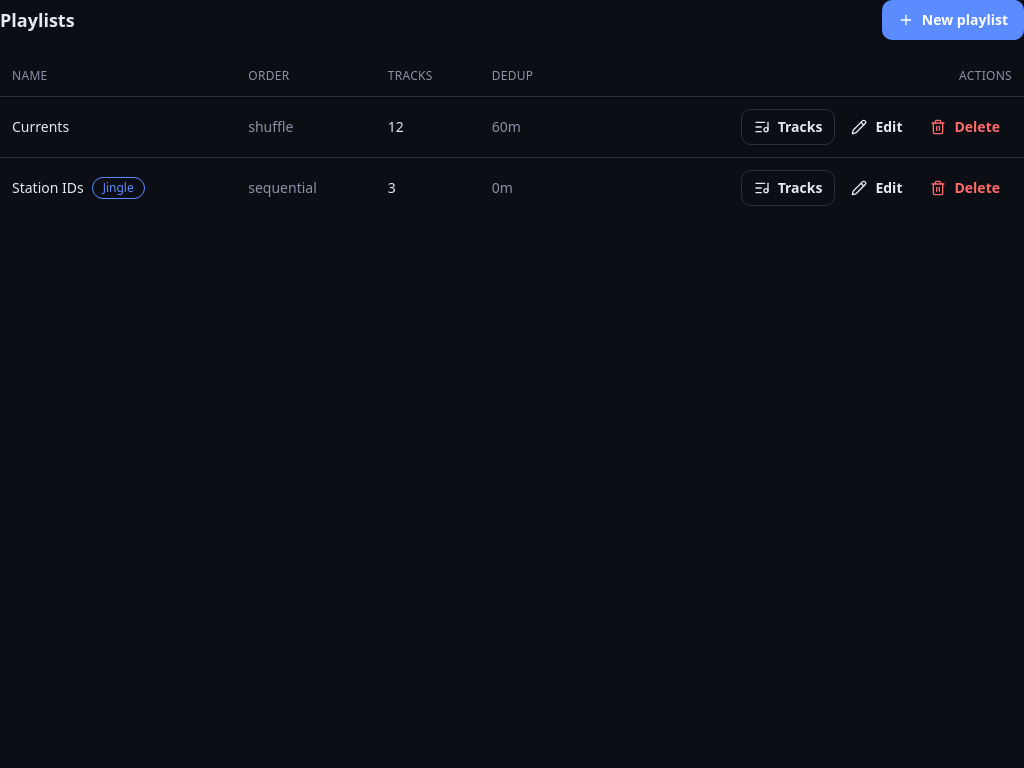
Test: PlaylistsPanel › surfaces the 409 that names the clocks blocking a delete
Click the button "Delete" in the row of "Currents" at (965, 126), box [918,108,1012,144]
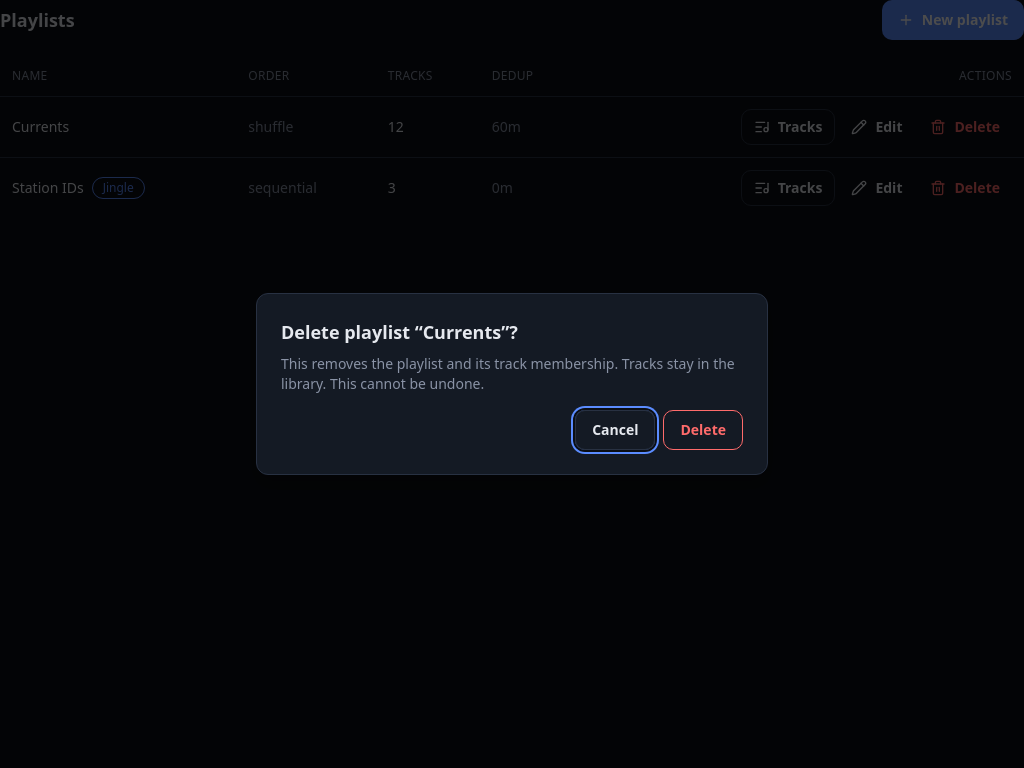
Click the button "Delete" at (703, 430), box [664,410,743,450]
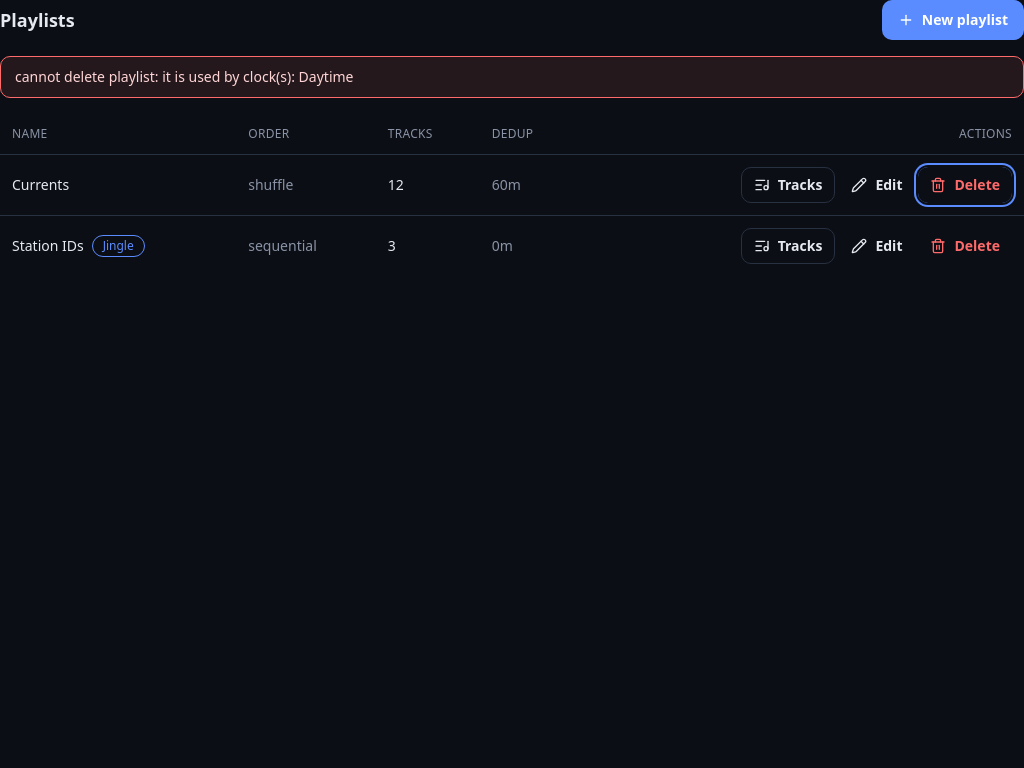
Check: the text "cannot delete playlist: it is used by clock(s): Daytime" is shown, box [0,56,1023,98]
